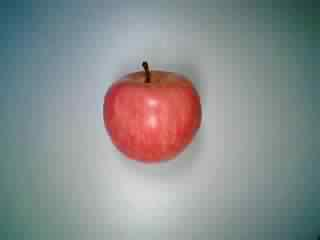apple: (98, 61, 203, 163)
